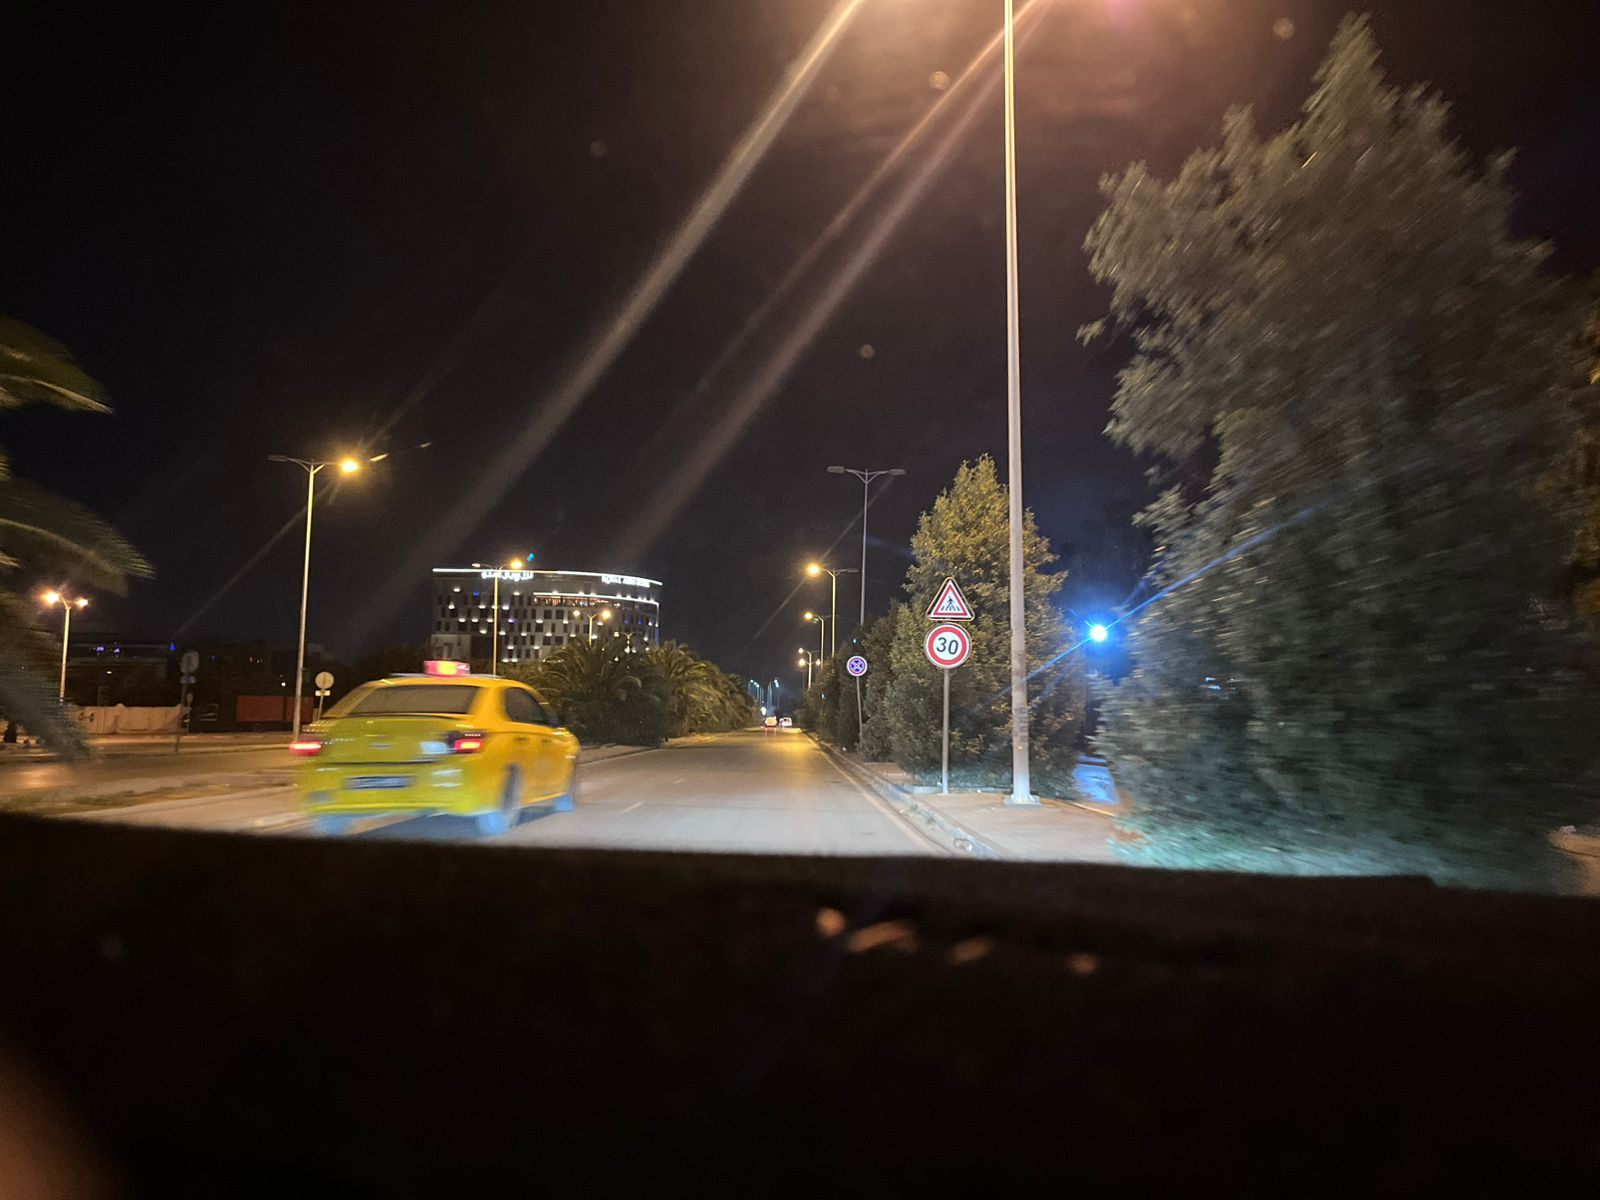SpeedLimit30: (924, 622, 973, 669)
